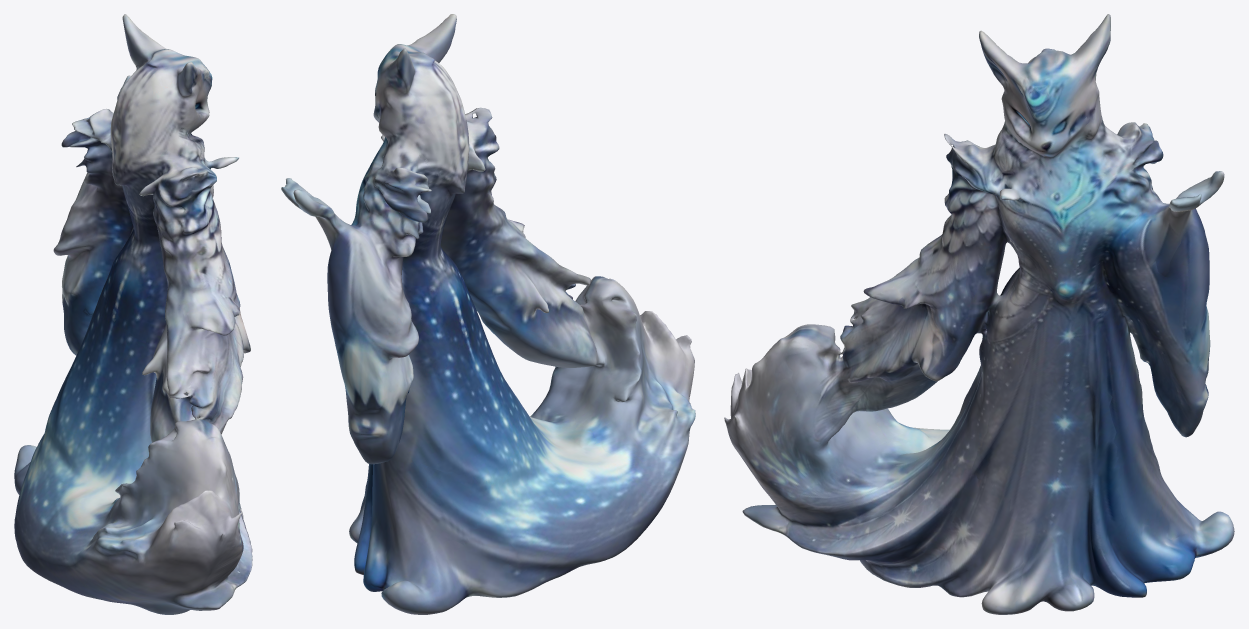
Rendered from lunara_solis_beast.glb.
The picture shows the model from 3 angles, left to right: view 1: azimuth 30°, elevation 25°; view 2: azimuth 150°, elevation 25°; view 3: azimuth 270°, elevation 25°; orthographic projection. The views are drawn at different scales.
Visible parts, largest first — view 1: tripo_node_e0e70d62-0add-400d-b84d-a948e39c42aa; view 2: tripo_node_e0e70d62-0add-400d-b84d-a948e39c42aa; view 3: tripo_node_e0e70d62-0add-400d-b84d-a948e39c42aa.
Boxes of the visible parts, <box> form: tripo_node_e0e70d62-0add-400d-b84d-a948e39c42aa: <box>14,14,252,614</box>; tripo_node_e0e70d62-0add-400d-b84d-a948e39c42aa: <box>281,14,695,614</box>; tripo_node_e0e70d62-0add-400d-b84d-a948e39c42aa: <box>724,14,1234,614</box>.
Bounding box in the file's own units: 0.3912 × 0.7786 × 0.6288.
Materials: 1 (1 with a texture image).
